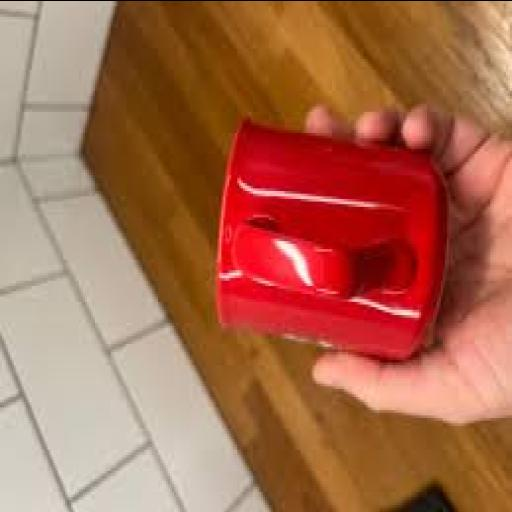red mug: (217, 124, 447, 359)
